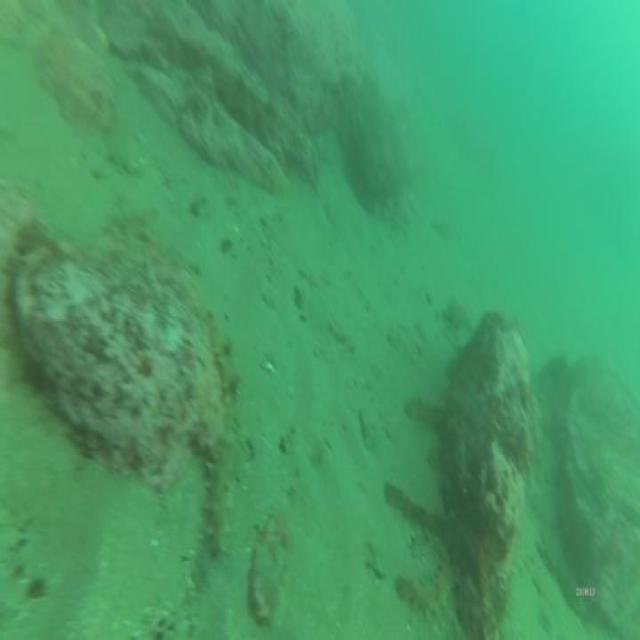holothurian: (203, 424, 248, 578), (393, 556, 461, 623), (209, 305, 239, 408)
starfish: (441, 289, 476, 338)
